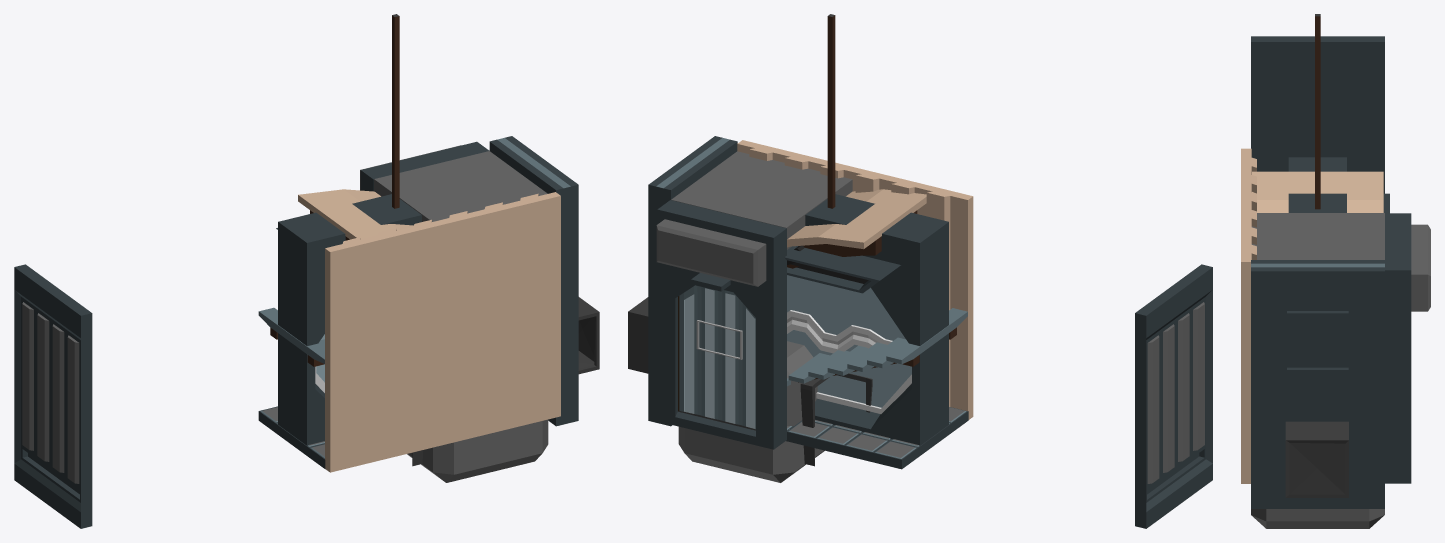
Rendered from vent90.glb.
3 views of the same model, side by side, from view 1: azimuth 30°, elevation 25°; view 2: azimuth 150°, elevation 25°; view 3: azimuth 270°, elevation 25° (orthographic).
Parts seen in each view (by area): view 1: GiantWall, Wall01.001, SiloDoorway, Ceiling01, CubeRounded, QuarterPipe, Bars01, Block01, WallHatchLow, WallHatchHigh, Hook, Doorway (+3 smaller); view 2: Doorway, SiloDoorway, Wall01.001, Door, GiantWall, Ceiling01, CubeRounded, SiloDoorU, QuarterPipe, SiloDoorD, Floor01.001, Staircase (+8 smaller); view 3: WallHatchLow, Wall01.001, WallHatchHigh, Doorway, Ceiling01, Vent90, Bars01, QuarterPipe, GiantWall, Block01, CubeRounded, SiloDoorway (+2 smaller).
Part boxes in pixels (left/top/right/bottom): GiantWall: left=325, top=192, right=560, bottom=472; Wall01.001: left=14, top=264, right=92, bottom=528; SiloDoorway: left=276, top=194, right=421, bottom=445; Ceiling01: left=374, top=151, right=547, bottom=221; CubeRounded: left=407, top=419, right=548, bottom=482; QuarterPipe: left=298, top=189, right=413, bottom=240; Bars01: left=561, top=194, right=578, bottom=411; Block01: left=489, top=136, right=578, bottom=198; WallHatchLow: left=561, top=221, right=578, bottom=410; WallHatchHigh: left=548, top=208, right=578, bottom=426; Hook: left=392, top=14, right=423, bottom=466; Doorway: left=360, top=141, right=489, bottom=191; Doorway: left=656, top=200, right=786, bottom=449; SiloDoorway: left=784, top=194, right=948, bottom=445; Wall01.001: left=1135, top=264, right=1212, bottom=528; Door: left=679, top=285, right=755, bottom=429; GiantWall: left=737, top=140, right=973, bottom=419; Ceiling01: left=671, top=151, right=852, bottom=246; CubeRounded: left=678, top=341, right=824, bottom=482; SiloDoorU: left=787, top=275, right=905, bottom=344; QuarterPipe: left=787, top=189, right=926, bottom=268; SiloDoorD: left=787, top=319, right=911, bottom=413; Floor01.001: left=786, top=407, right=968, bottom=469; Staircase: left=787, top=308, right=967, bottom=386; WallHatchLow: left=1251, top=305, right=1384, bottom=494; Wall01.001: left=1251, top=36, right=1384, bottom=193; WallHatchHigh: left=1251, top=306, right=1384, bottom=508; Doorway: left=1385, top=213, right=1430, bottom=483; Ceiling01: left=1251, top=213, right=1384, bottom=259; Vent90: left=1285, top=421, right=1348, bottom=497; Bars01: left=1251, top=280, right=1384, bottom=495; QuarterPipe: left=1252, top=171, right=1383, bottom=212; GiantWall: left=1241, top=148, right=1256, bottom=483; Block01: left=1251, top=260, right=1384, bottom=280; CubeRounded: left=1251, top=509, right=1384, bottom=528; SiloDoorway: left=1288, top=157, right=1389, bottom=213.
Bounding box in the file's own units: 9.29 × 7.53 × 2.83.
Materials: 1 (1 with a texture image).
